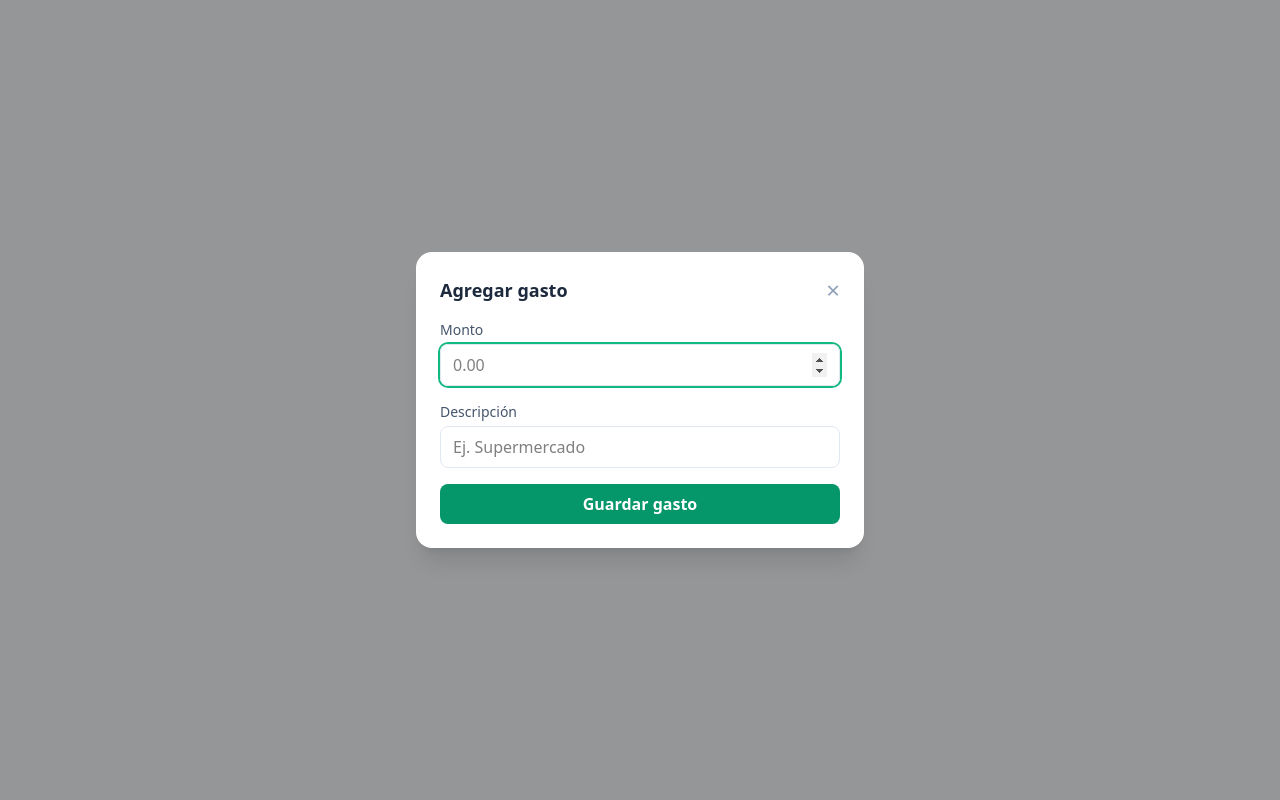
Test: ModalGasto › exige una descripción cuando el monto es válido
Type "100" into the number field with placeholder "0.00".
click(640, 365); type("100")  # box 440,344 -> 840,386
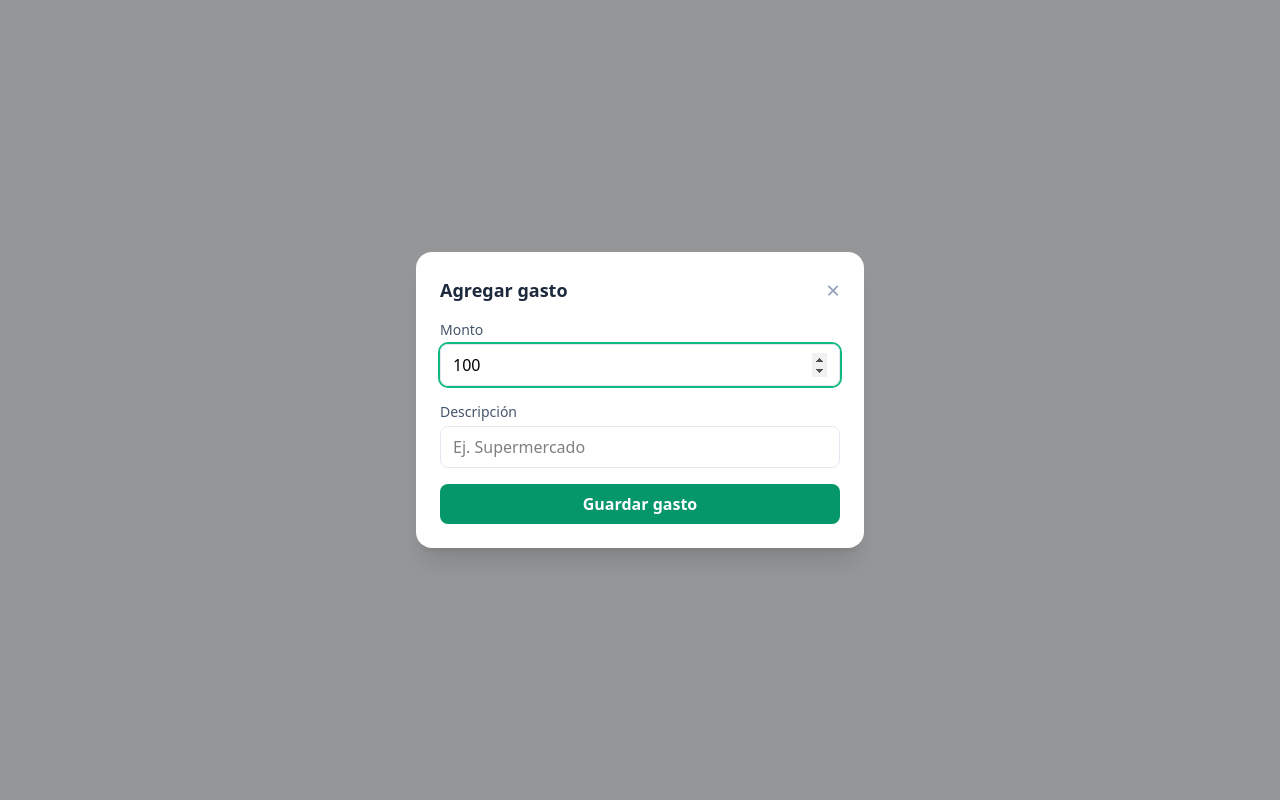
Click the button "Guardar gasto".
click(640, 504)  # box 440,484 -> 840,524
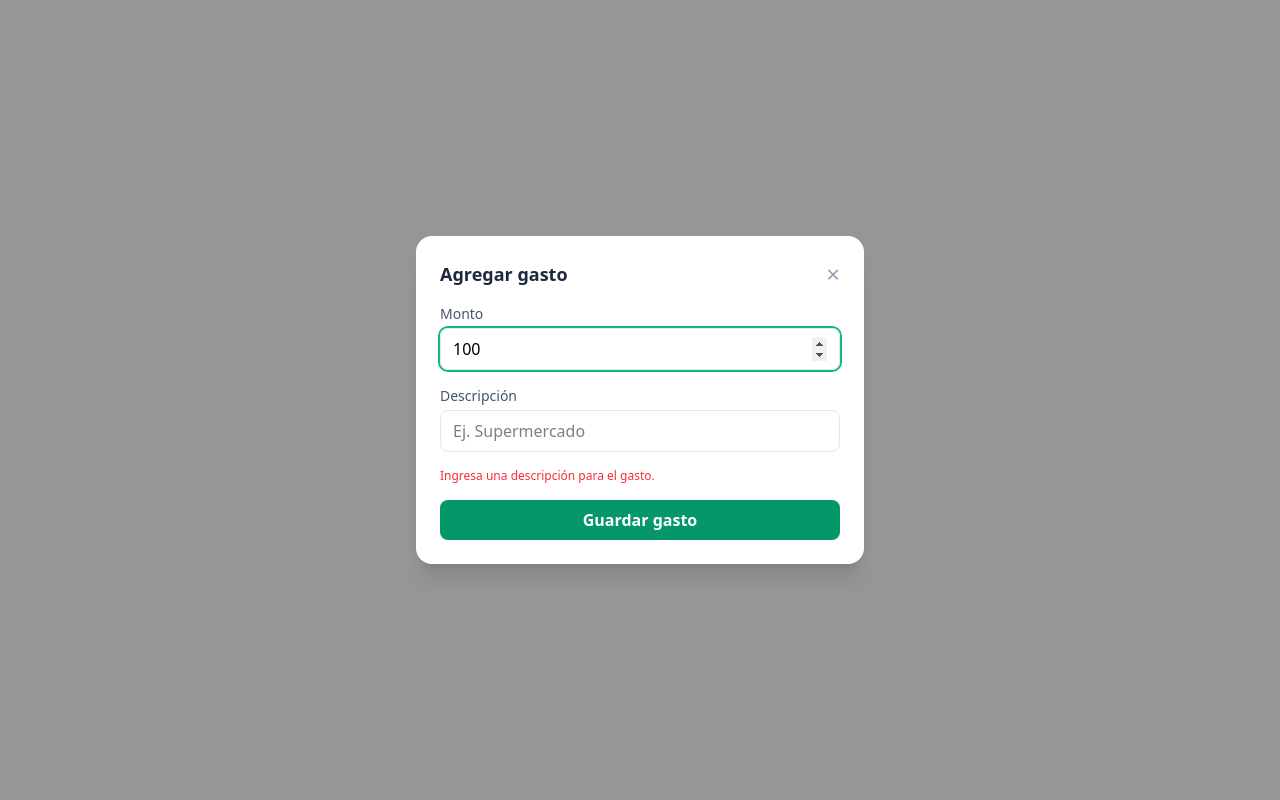
Result: the text "Ingresa una descripción para el gasto." is shown at 440,467 -> 655,484
